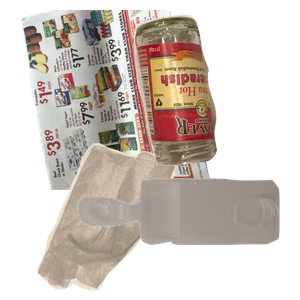glass: (131, 12, 300, 170)
paper: (19, 10, 223, 190)
plastic: (75, 176, 300, 300)
trash: (35, 140, 203, 300)
